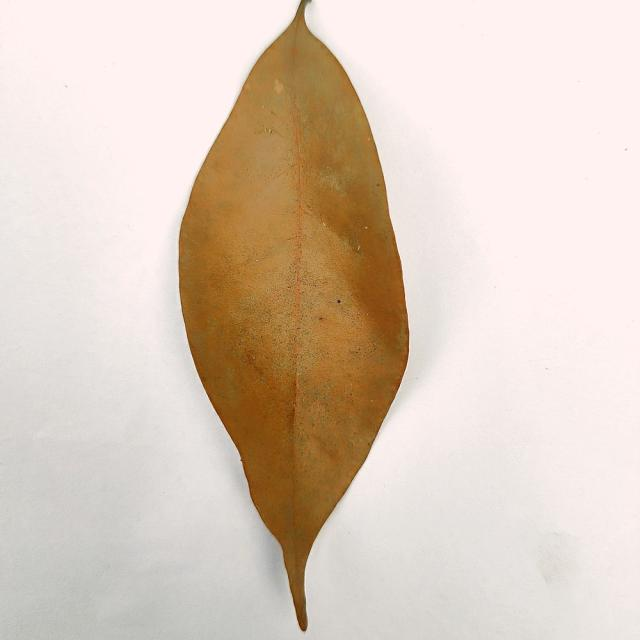Dry_Leaf-Lychee: (177, 0, 412, 632)
